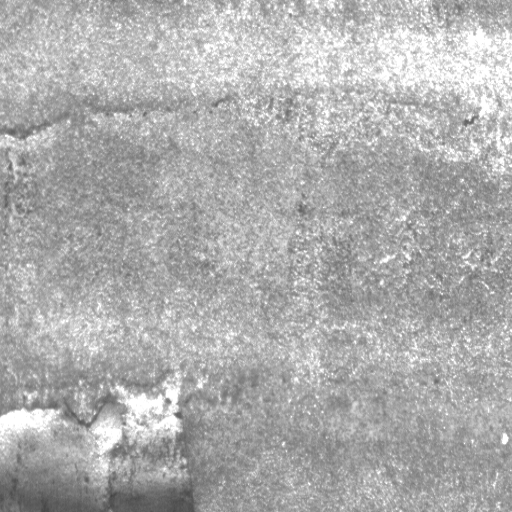qiaopi: (1, 375, 195, 511)
